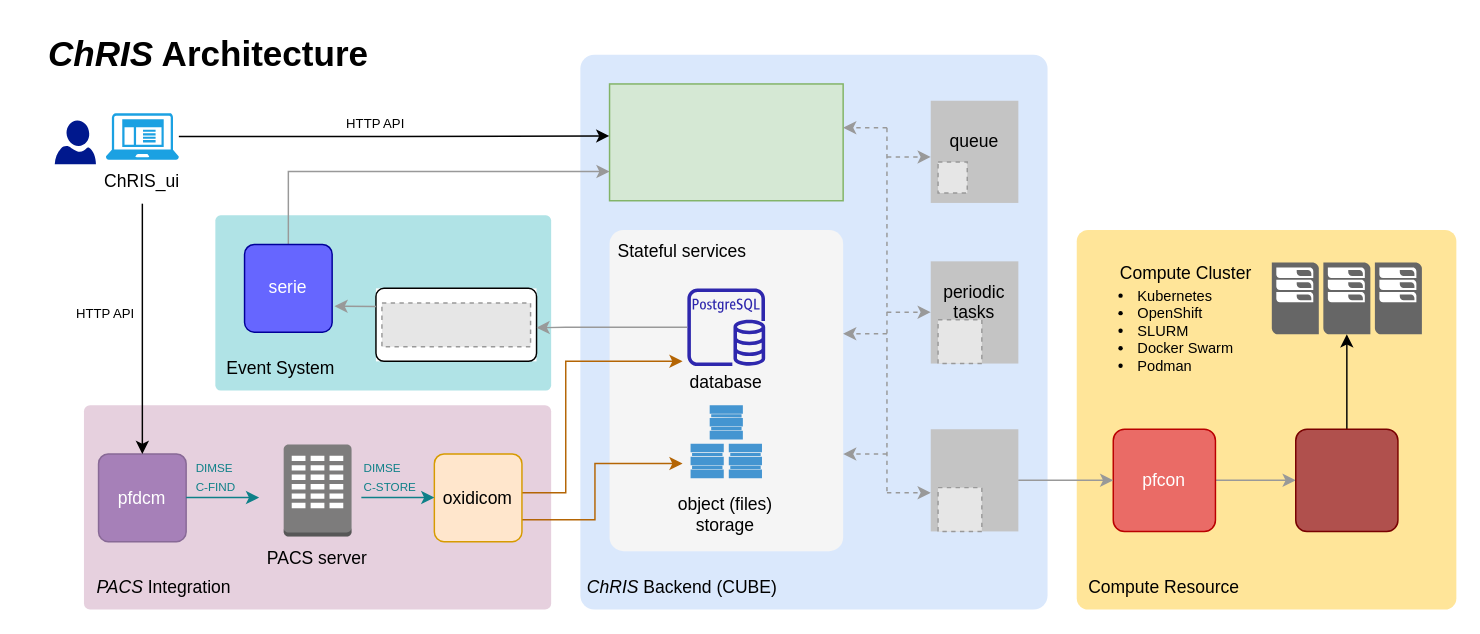
Some shapes in this 1480 by 634 pixel diagram are drawn without their labels. Grey dashed boxes stand in for pictures. Here are the shapes that lost their labels. From the top down, the box of each, then its label:
(608, 82, 843, 201): WSGI server
(930, 429, 1018, 531): main worker
(1294, 428, 1398, 531): pman
